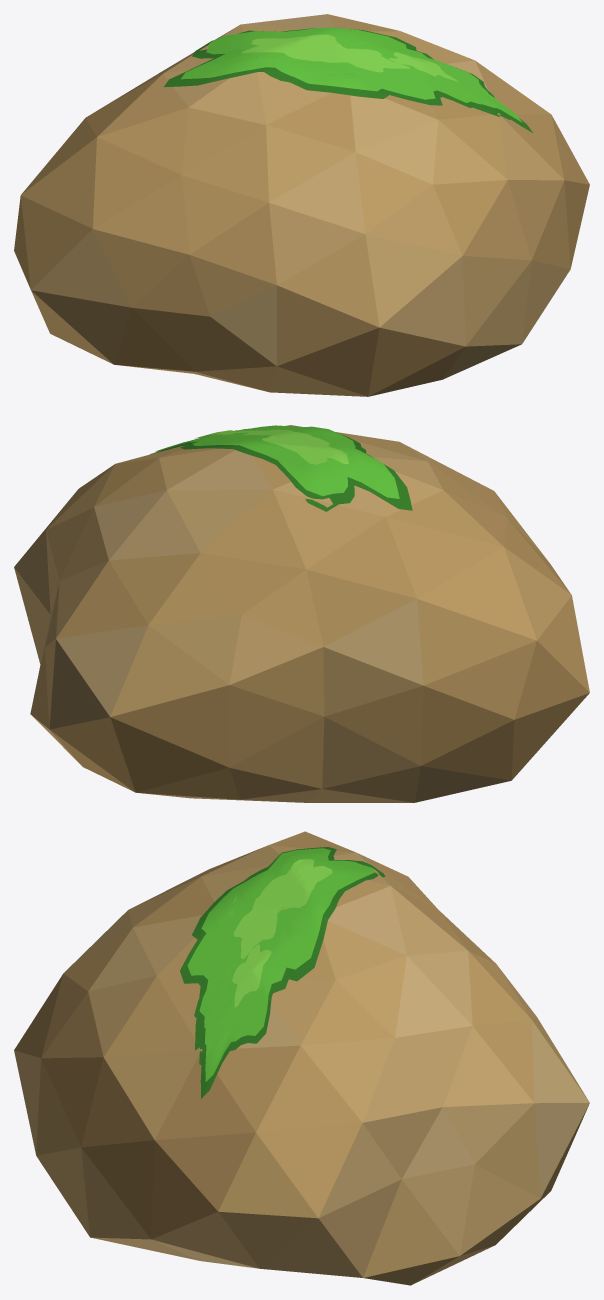
Rendered from rock_5_streak.glb.
3 views of the same model, one above another, from view 1: azimuth 30°, elevation 25°; view 2: azimuth 150°, elevation 25°; view 3: azimuth 270°, elevation 25° (orthographic). The views are drawn at different scales.
Visible parts, largest first — view 1: rock_5_streak; view 2: rock_5_streak; view 3: rock_5_streak.
Part boxes in pixels (<box>): rock_5_streak: <box>14,14,589,396</box>; rock_5_streak: <box>14,425,589,802</box>; rock_5_streak: <box>14,831,589,1285</box>.
Bounding box in the file's own units: 4.02 × 2.14 × 3.42.
